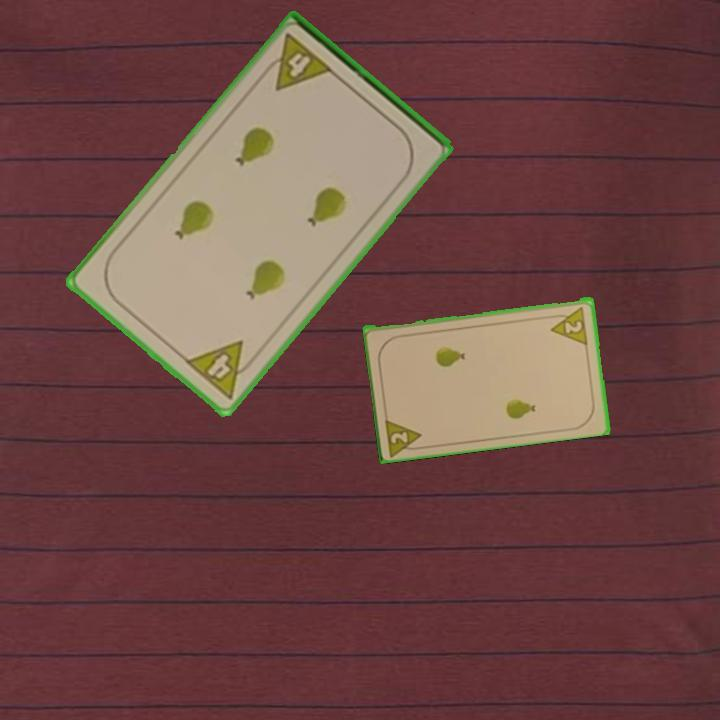2p: (381, 413, 427, 457), (546, 303, 591, 346)
4p: (181, 337, 262, 402), (258, 30, 336, 94)
